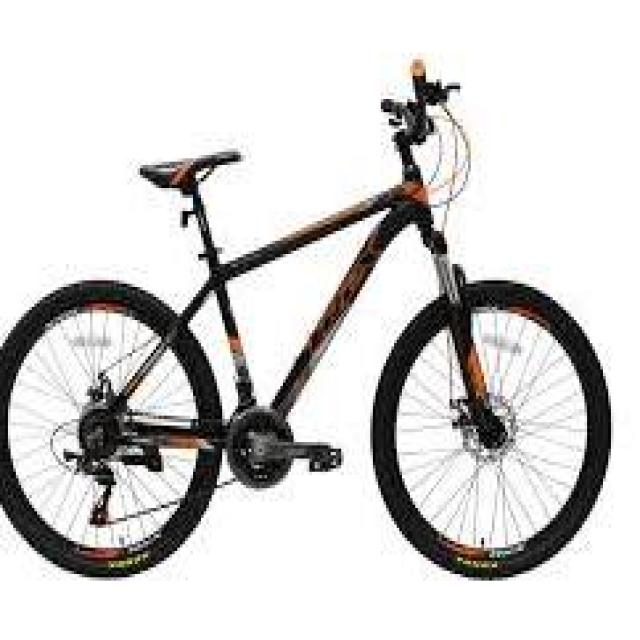kendaraan: (4, 99, 596, 586)
